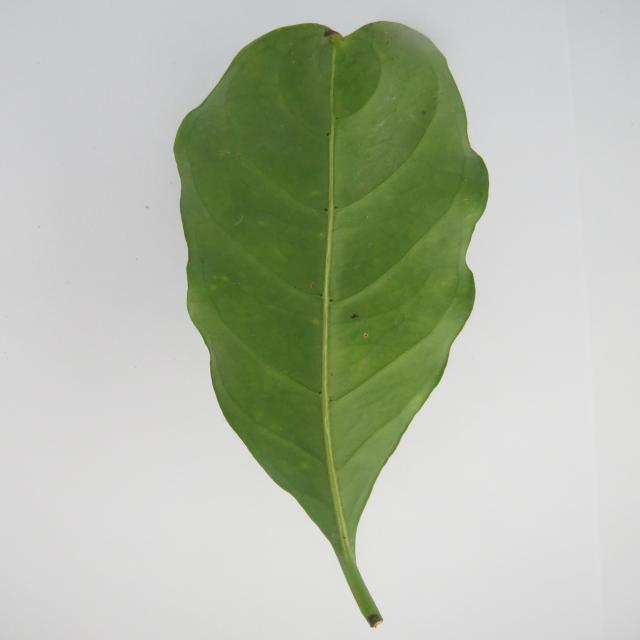DeficienciaNutricional-Boro: (175, 21, 488, 626)
